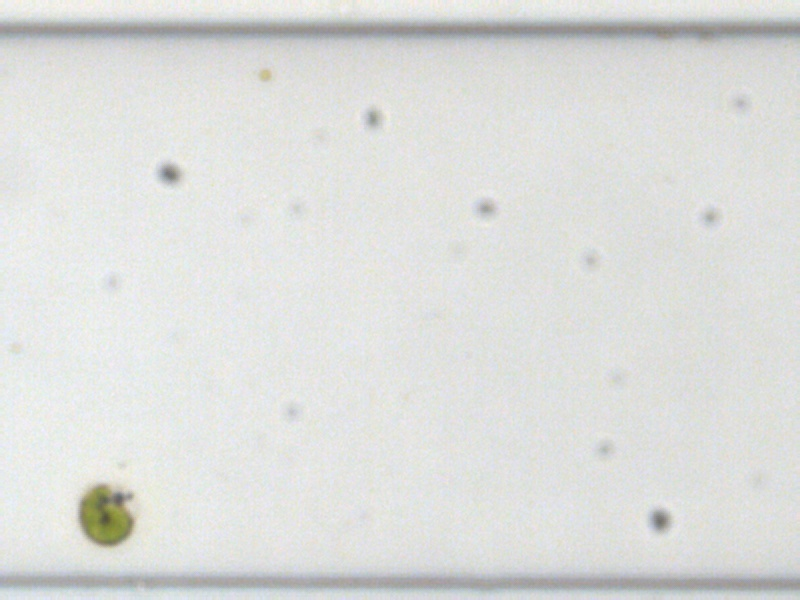Chlorella: (257, 65, 272, 79)
Haematococcus: (76, 483, 135, 544)
